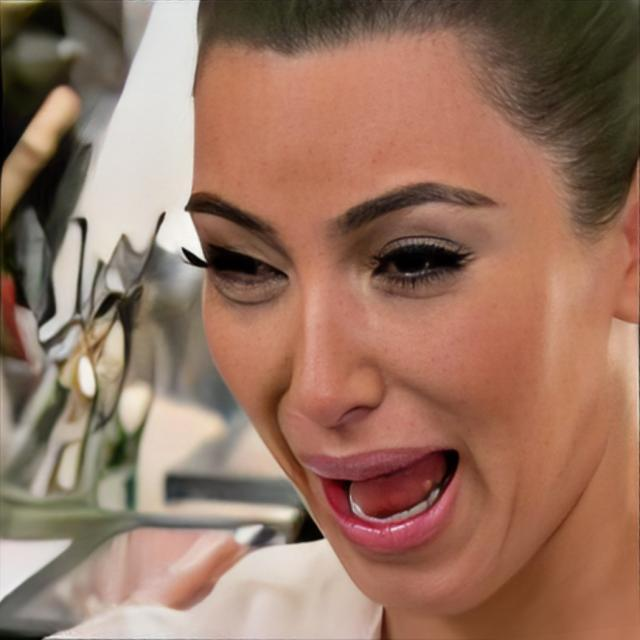sad: (184, 26, 608, 623)
